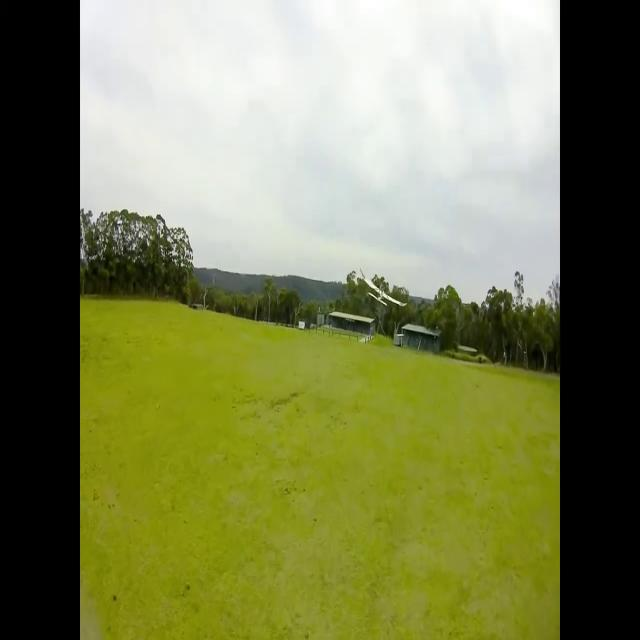iha: (360, 273, 408, 311)
